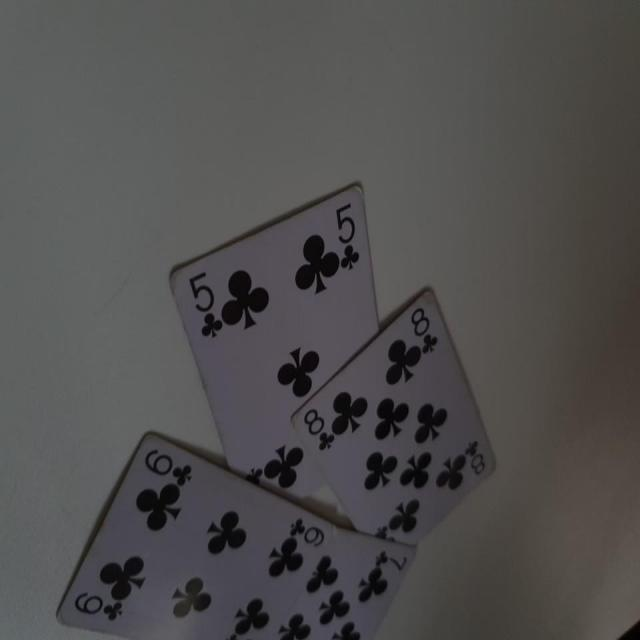5 Trefoils: (167, 183, 379, 504)
6 Trefoils: (55, 432, 338, 640)
7 Trefoils: (277, 525, 417, 640)
8 Trefoils: (288, 289, 495, 549)
